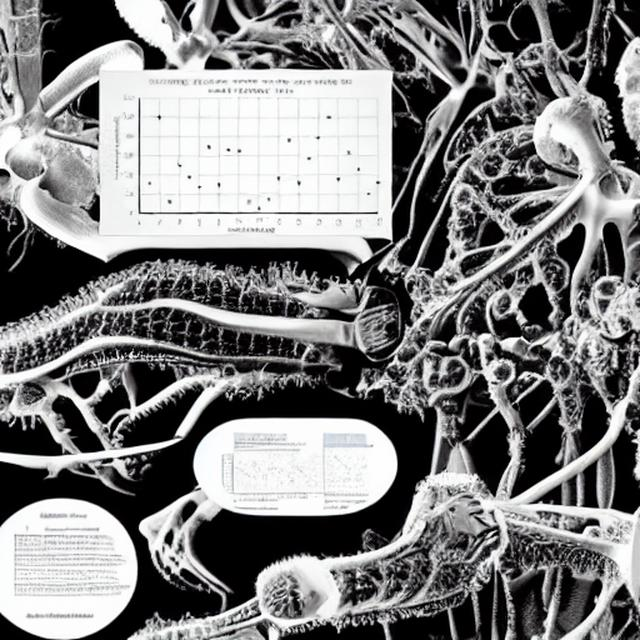Graph: (110, 73, 386, 235), (219, 448, 307, 505)
